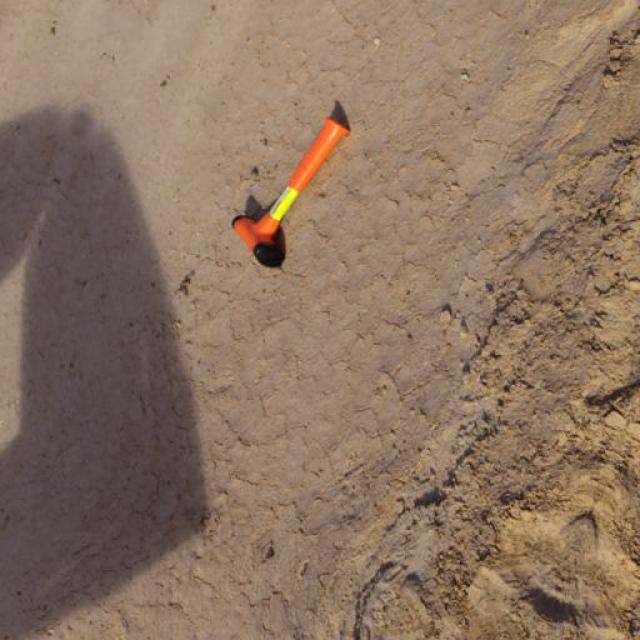mallet: (231, 98, 354, 268)
